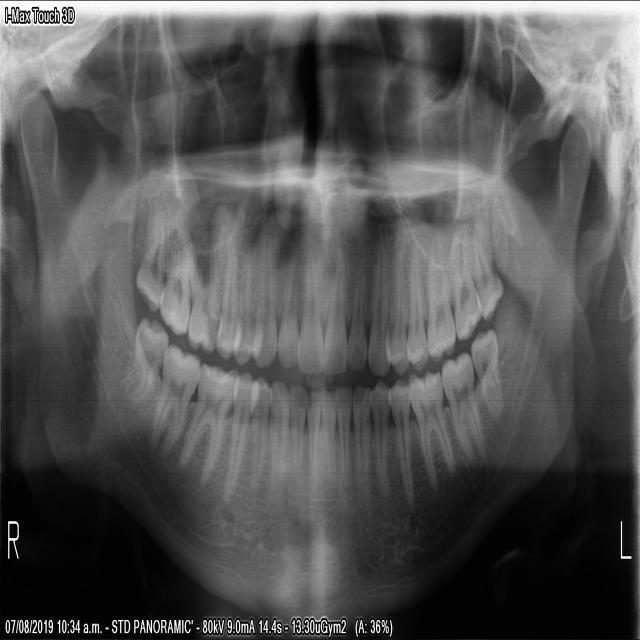LCD: (351, 379, 370, 502)
LCU: (365, 220, 390, 377)
LID: (334, 383, 351, 487), (320, 389, 336, 488)
LIU: (322, 242, 347, 376), (347, 247, 368, 372)
LMD: (407, 366, 455, 494), (440, 349, 482, 465), (468, 327, 503, 422)
LMU: (424, 227, 457, 366), (449, 219, 481, 342), (471, 207, 504, 325)
LPMD: (390, 378, 413, 511), (370, 379, 391, 502)
LPMU: (406, 219, 428, 373), (389, 212, 409, 377)
RCD: (267, 377, 287, 498)
RCU: (250, 219, 275, 369)
RID: (287, 382, 304, 486), (304, 387, 321, 486)
RIU: (295, 243, 321, 376), (275, 251, 299, 369)
RMD: (175, 361, 235, 491), (147, 340, 200, 461), (117, 316, 166, 406)
RMU: (184, 229, 219, 353), (156, 213, 189, 338), (131, 203, 165, 314)
RPMD: (220, 369, 249, 504), (247, 374, 268, 492)
RPMU: (212, 224, 236, 361), (230, 231, 251, 368)
